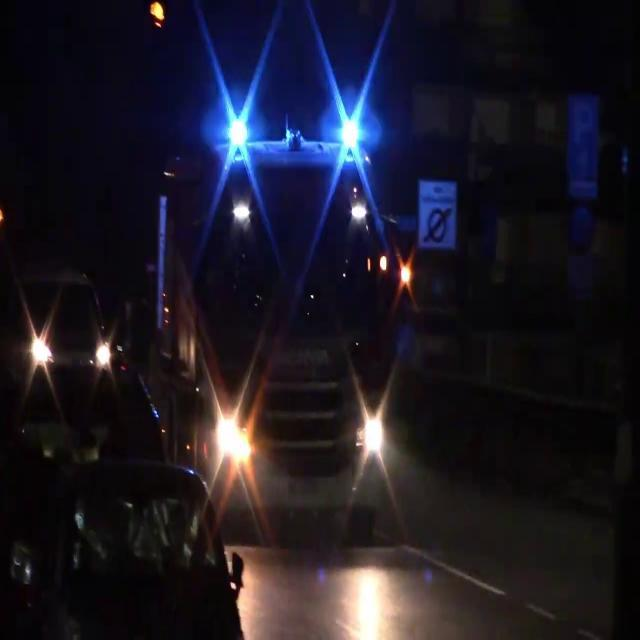Fire: (210, 396, 256, 478)
